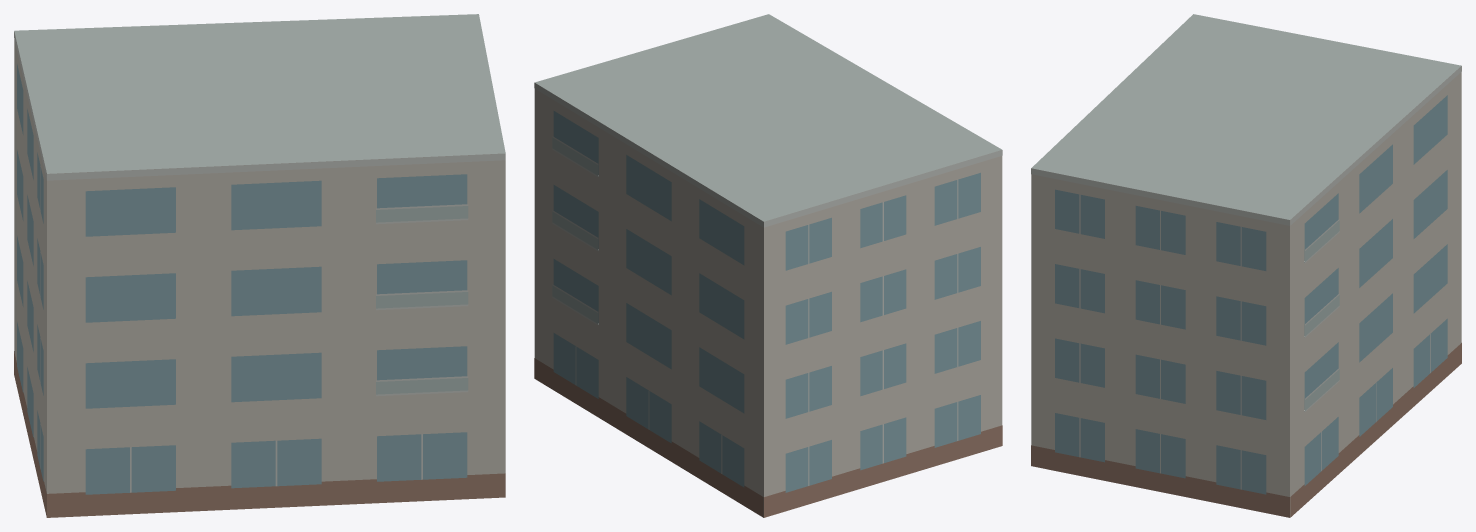
File: survey-upis-32711813.glb
3 views of the same model, side by side, from view 1: azimuth 30°, elevation 25°; view 2: azimuth 150°, elevation 25°; view 3: azimuth 270°, elevation 25° (orthographic). The views are drawn at different scales.
Parts seen in each view (by area): view 1: survey-upis-32711813.tmp; view 2: survey-upis-32711813.tmp; view 3: survey-upis-32711813.tmp.
Part boxes in pixels (box(x1,y1,x2,y2)): survey-upis-32711813.tmp: box(14, 14, 505, 517); survey-upis-32711813.tmp: box(534, 14, 1002, 517); survey-upis-32711813.tmp: box(1031, 14, 1461, 517).
Bounding box in the file's own units: 18.11 × 12.2 × 16.
